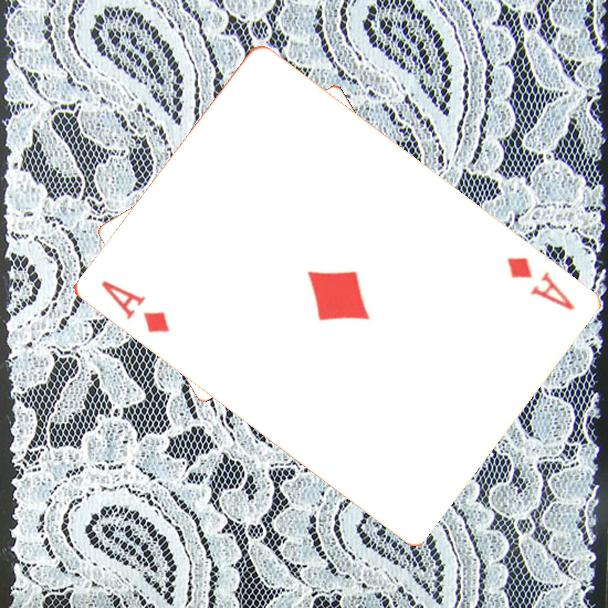d01: (502, 253, 577, 314), (97, 277, 173, 336)
